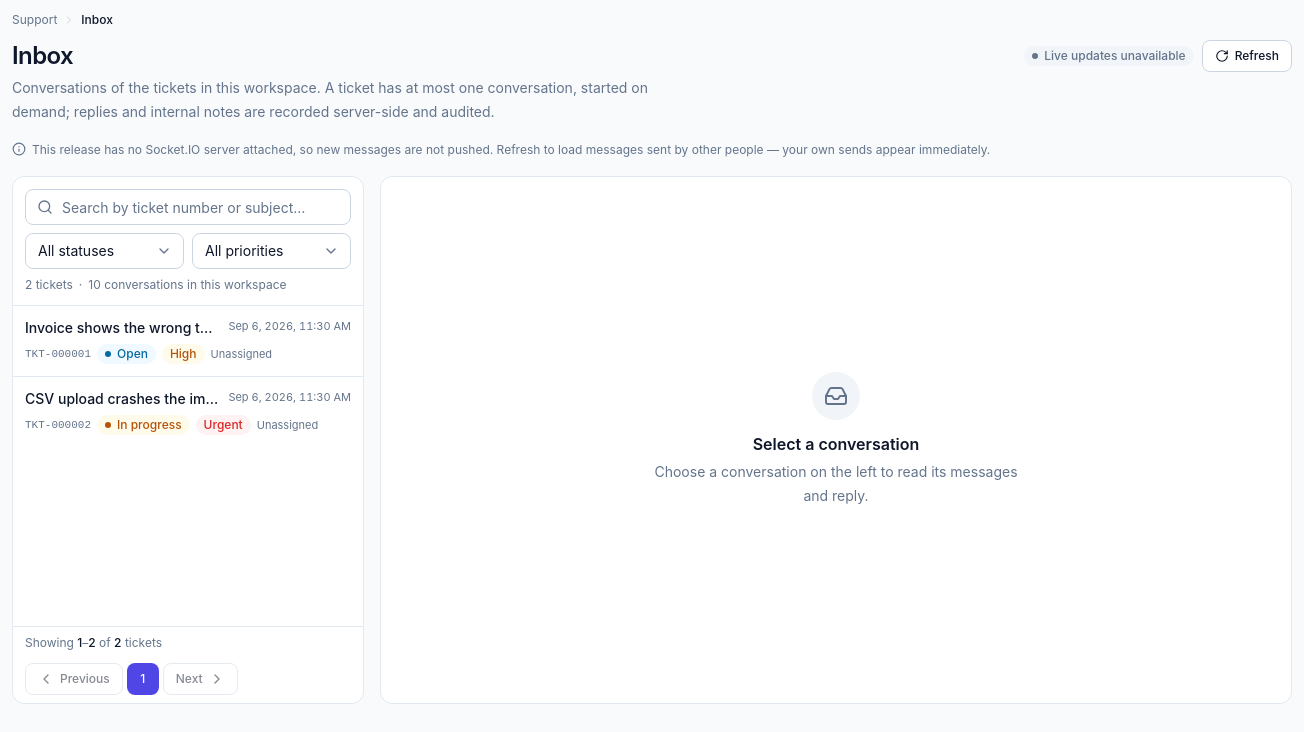
Test: InboxPage › loads the selected conversation and its messages
Click the button "Invoice shows the wrong total". click: {"x": 188, "y": 341}
box: x1=13 y1=306 x2=363 y2=376
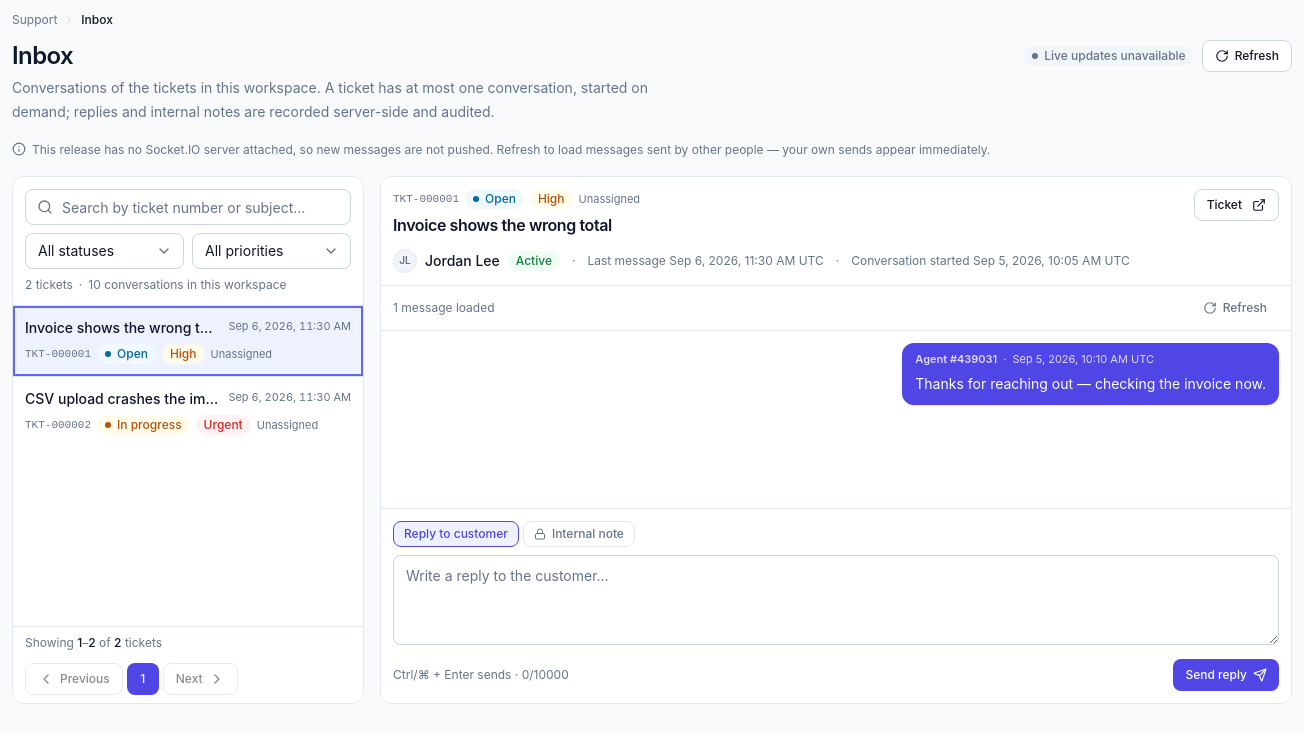
Now the text "Thanks for reaching out — checking the invoice now." is shown, box x1=915 y1=372 x2=1266 y2=396
Now the text box is shown, box x1=393 y1=555 x2=1279 y2=645
